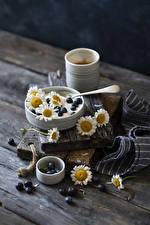chamomile: (26, 94, 47, 112), (71, 167, 92, 184), (77, 117, 97, 134), (96, 111, 109, 125), (49, 95, 63, 108), (46, 129, 60, 141), (113, 177, 123, 189)
